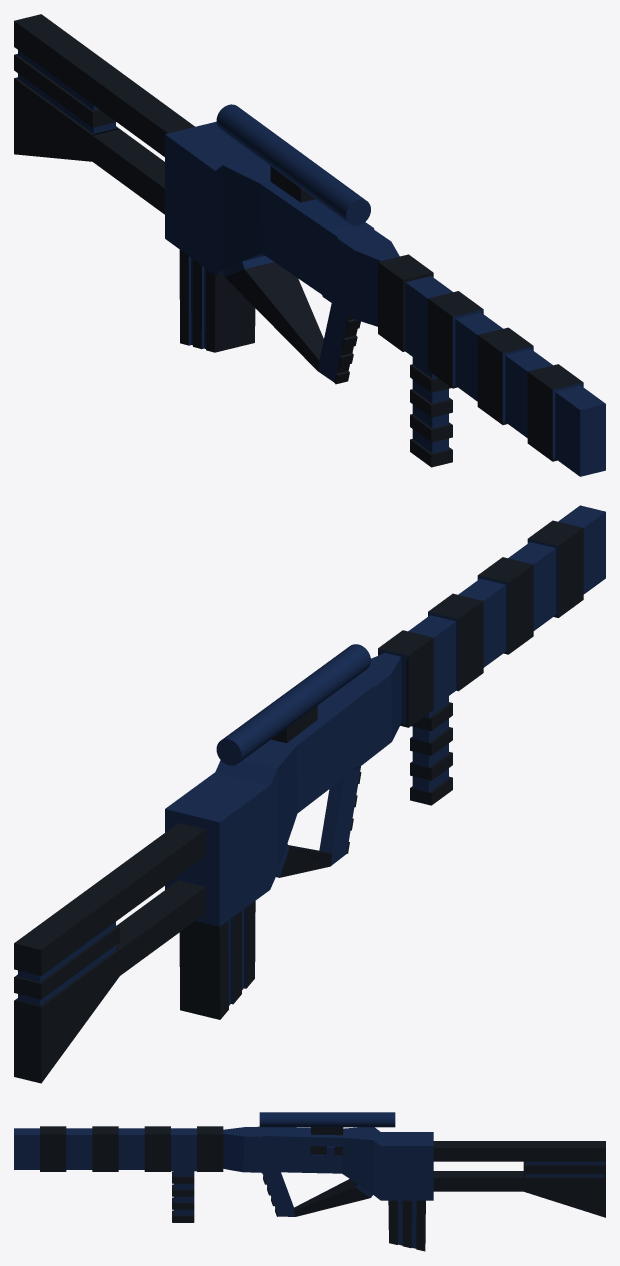
Rendered from rifle.glb.
3 views of the same model, one above another, from view 1: azimuth 30°, elevation 25°; view 2: azimuth 150°, elevation 25°; view 3: azimuth 270°, elevation 25° (orthographic). The views are drawn at different scales.
Visible parts, largest first — view 1: Cube; view 2: Cube; view 3: Cube.
Part boxes in pixels (x1,y1,x2,y2): Cube: (14, 14, 605, 476); Cube: (14, 505, 605, 1083); Cube: (14, 1112, 605, 1251).
Size of the model in its own units: 1.1 by 4.88 by 19.63.
